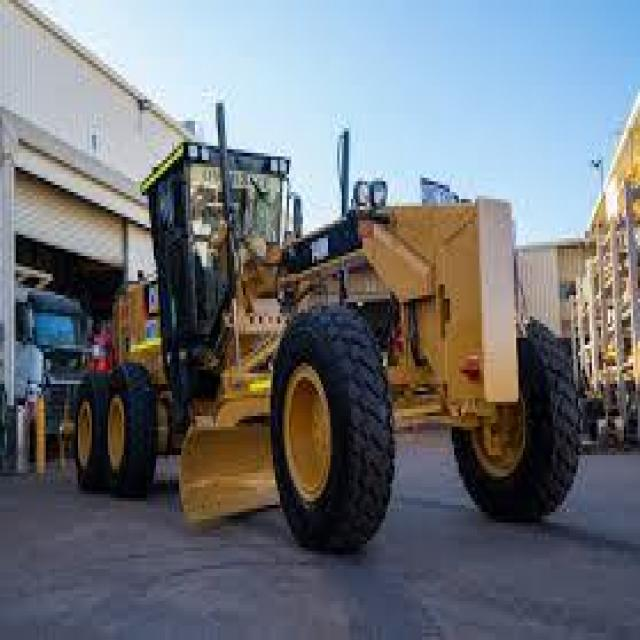Grader: (51, 125, 604, 580)
